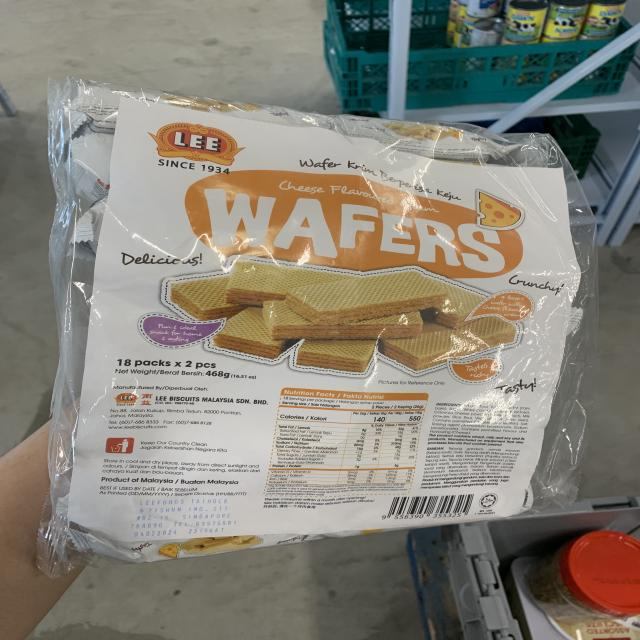object_name: (64, 87, 556, 517)
